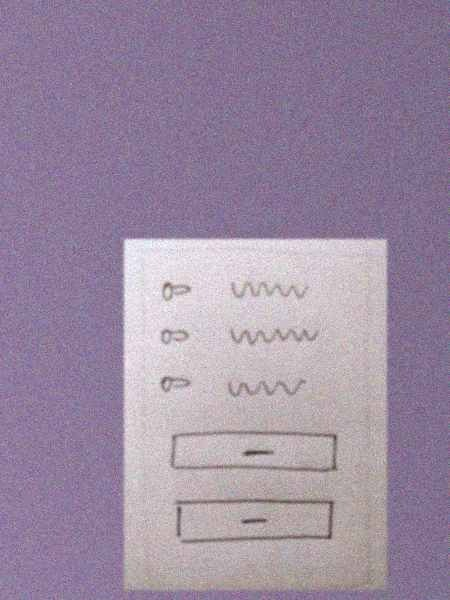button: (169, 494, 337, 552), (163, 427, 344, 477)
switch: (157, 272, 194, 305), (156, 370, 194, 395), (156, 324, 192, 350)
text: (226, 274, 311, 307), (225, 322, 320, 347), (222, 375, 312, 401)
